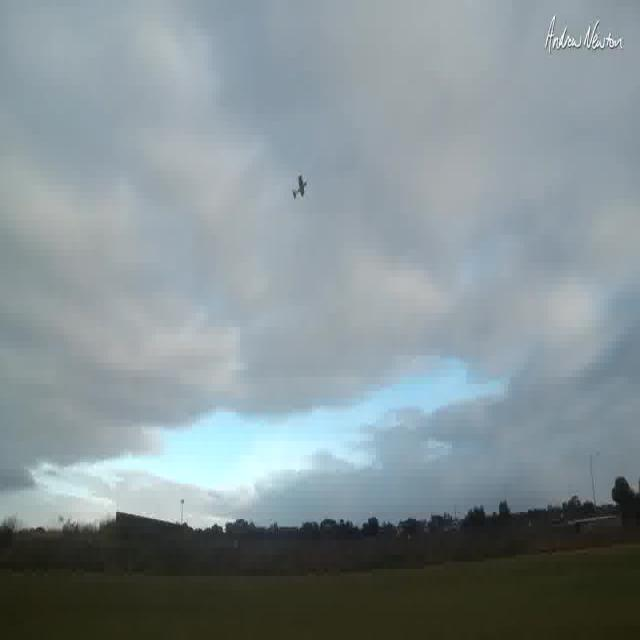iha: (285, 168, 320, 212)
